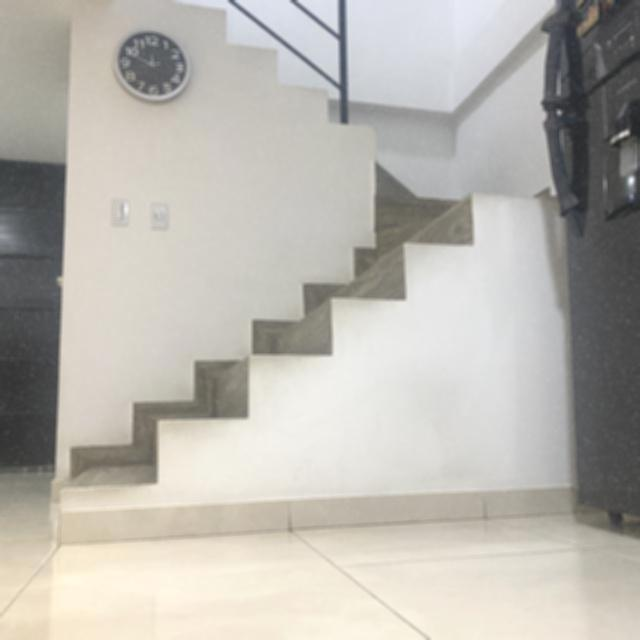door: (0, 147, 76, 506)
obstacle: (539, 0, 640, 528)
stair: (39, 170, 546, 566)
